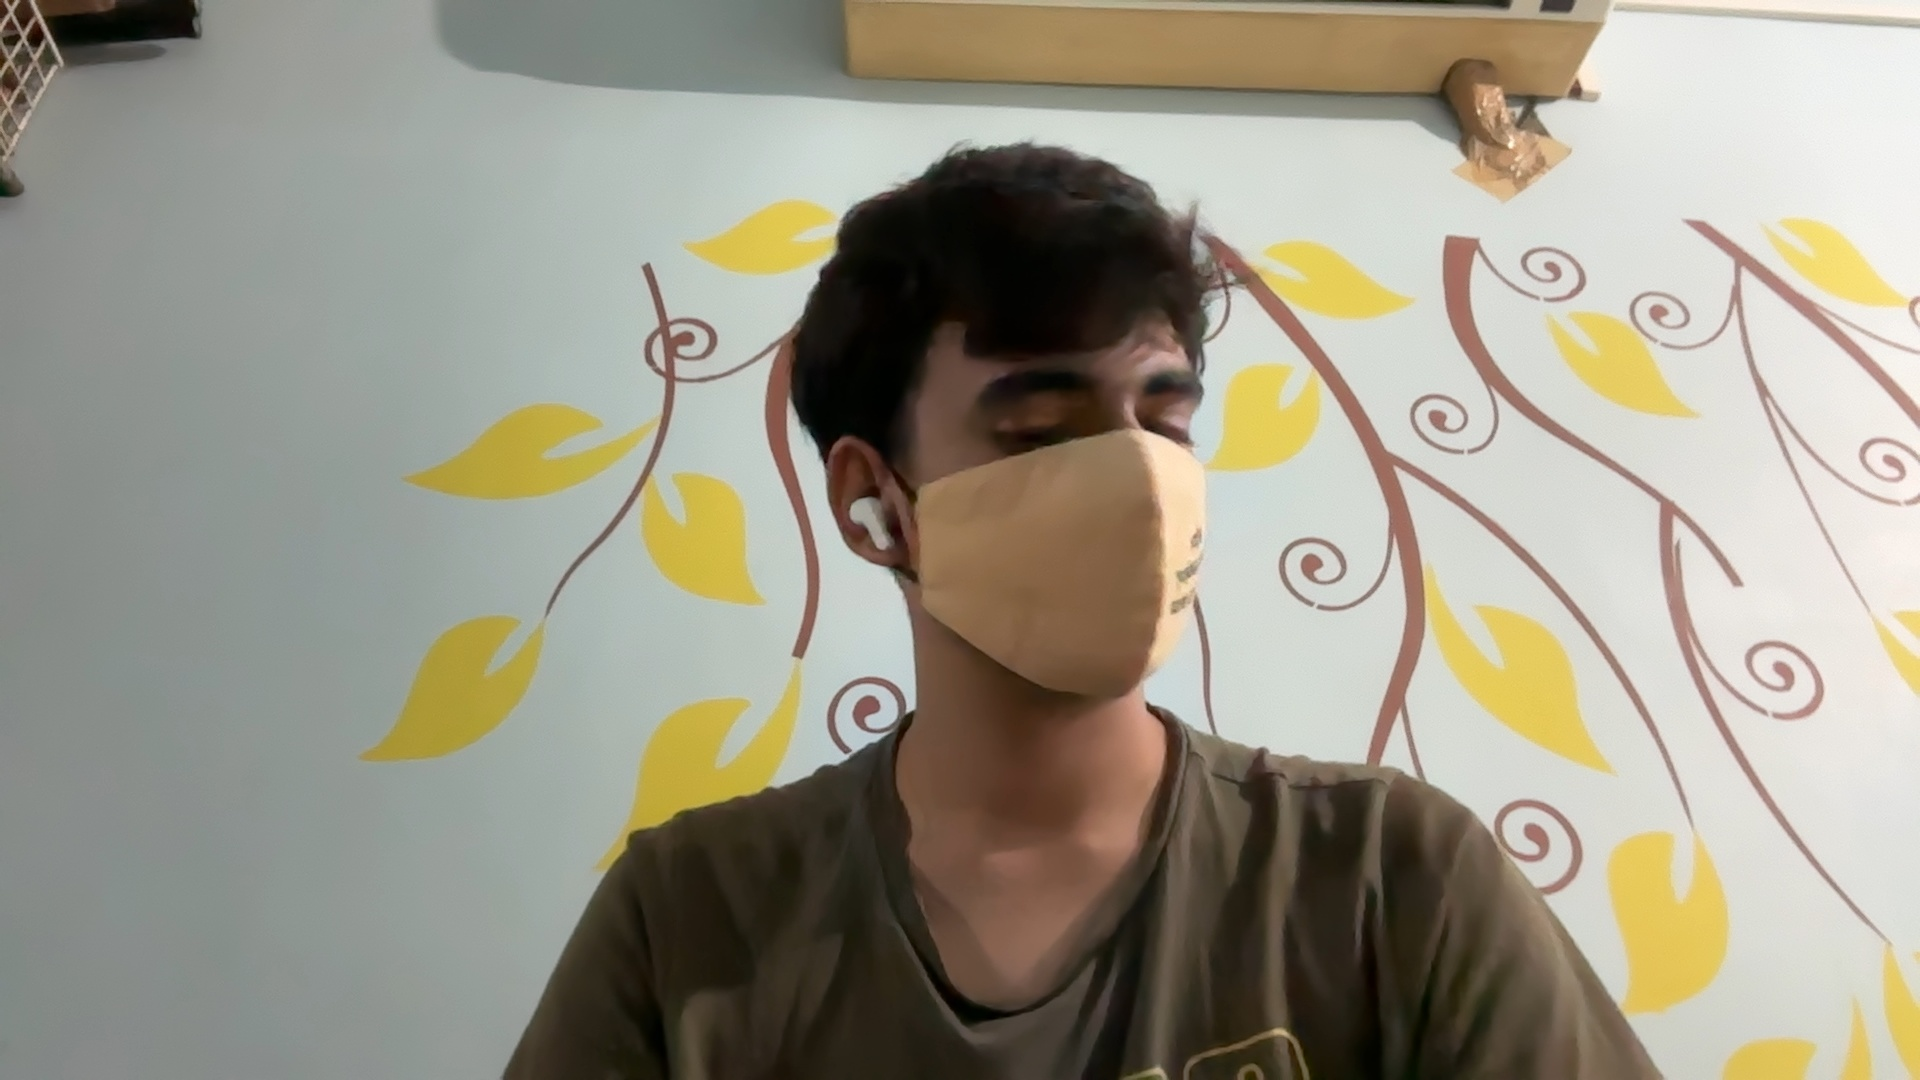Mask: (920, 441, 1253, 705)
